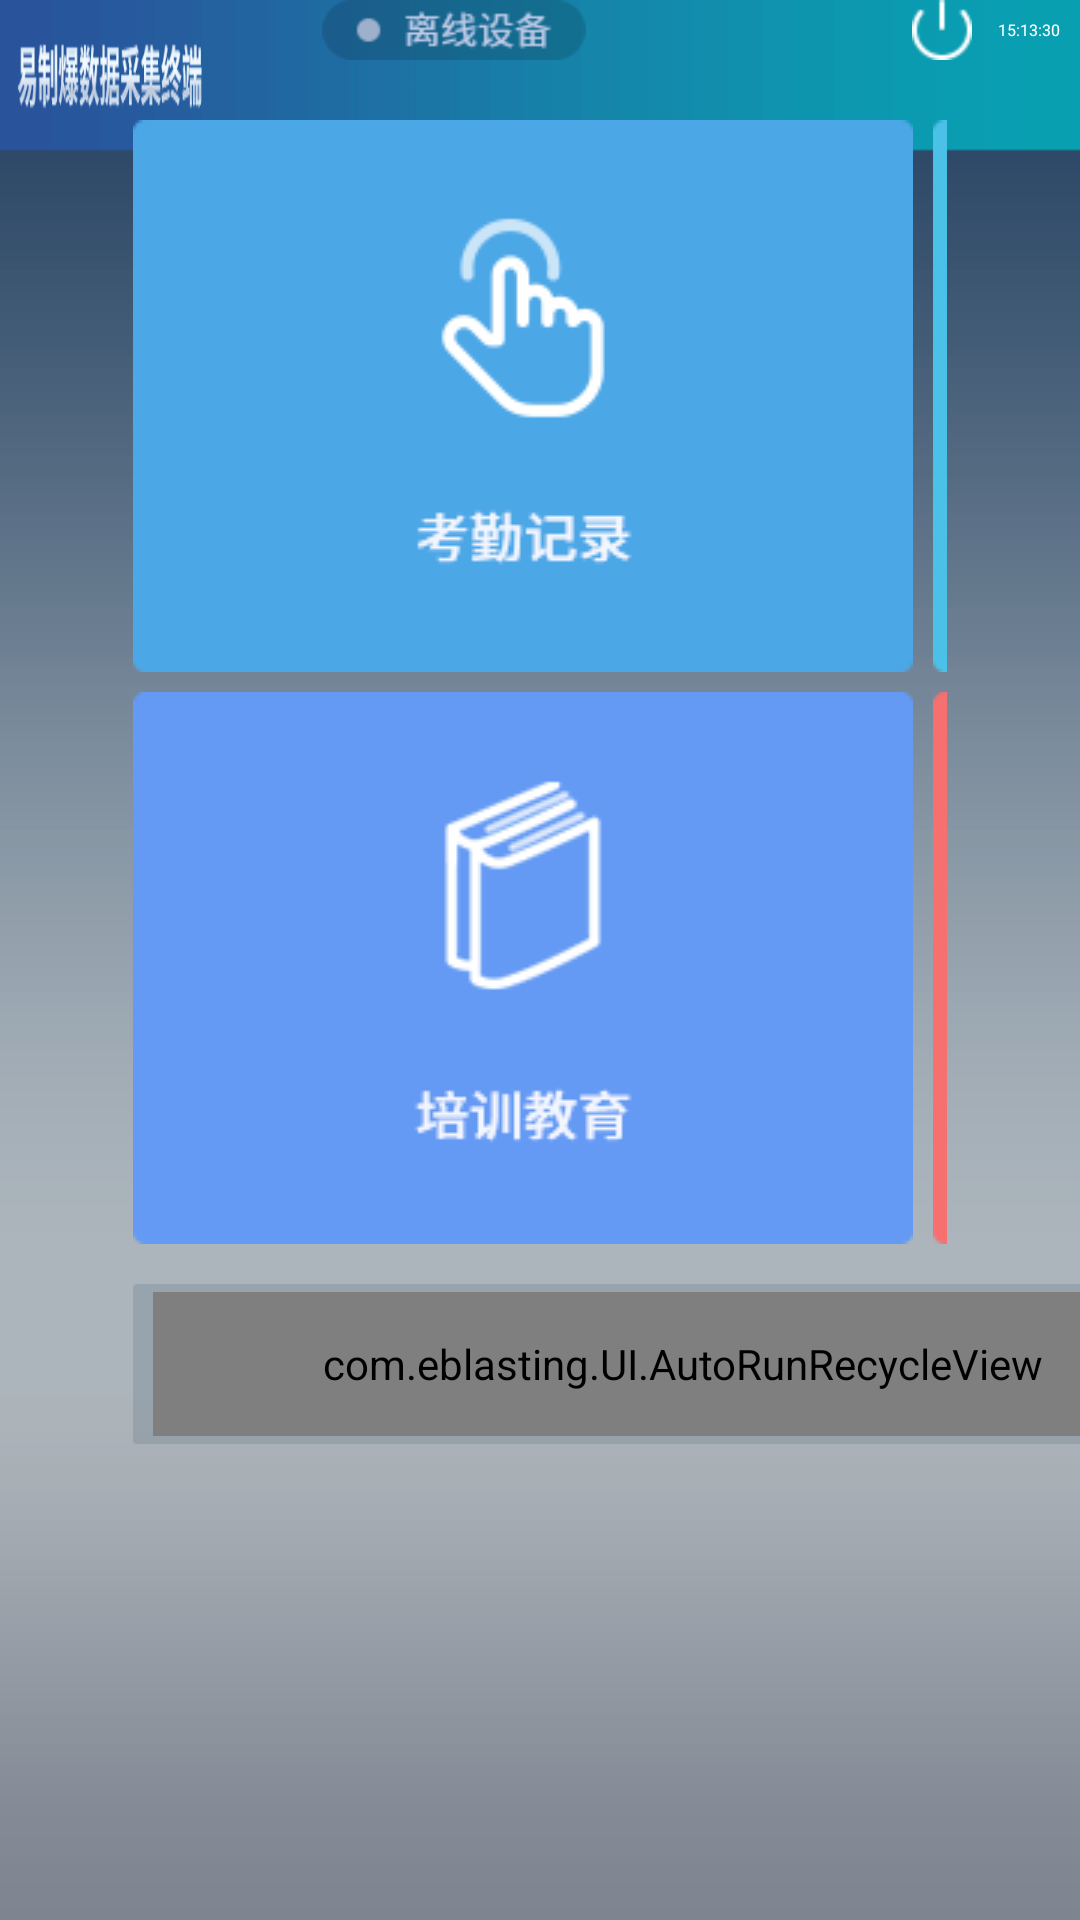

Named icons in this screenshot (1080px x 1920px) and their bounding boxes, (x1, y1, x2, y2):
quit: (912, 0, 972, 60)
